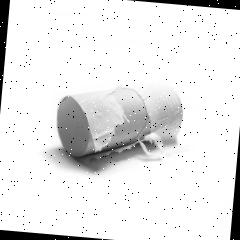paper: (52, 74, 186, 168)
